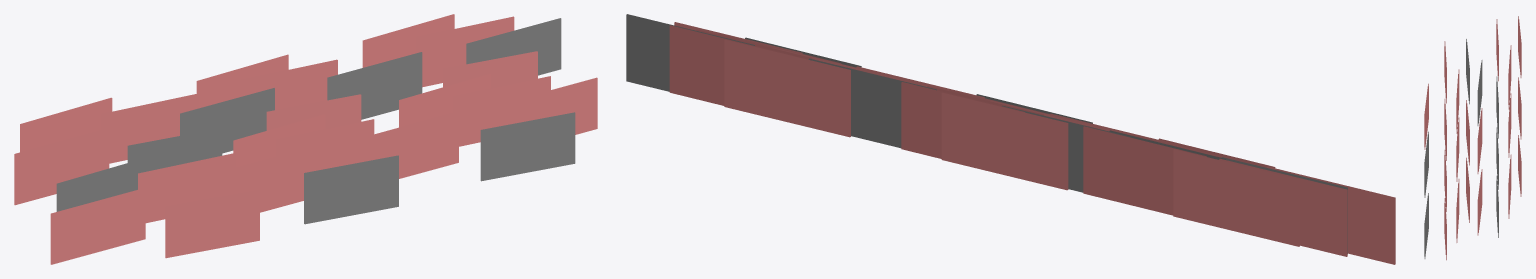
Rendered from Crowd_04.FBX.
3 views of the same model, side by side, from view 1: azimuth 30°, elevation 25°; view 2: azimuth 150°, elevation 25°; view 3: azimuth 270°, elevation 25° (orthographic). The views are drawn at different scales.
Parts seen in each view (by area): view 1: crowd004; view 2: crowd004; view 3: crowd004.
Part boxes in pixels (bbox=[...]): crowd004: bbox=[14, 14, 597, 264]; crowd004: bbox=[626, 14, 1395, 264]; crowd004: bbox=[1424, 16, 1521, 260].
Size of the model in its own units: 562 by 110 by 122.
